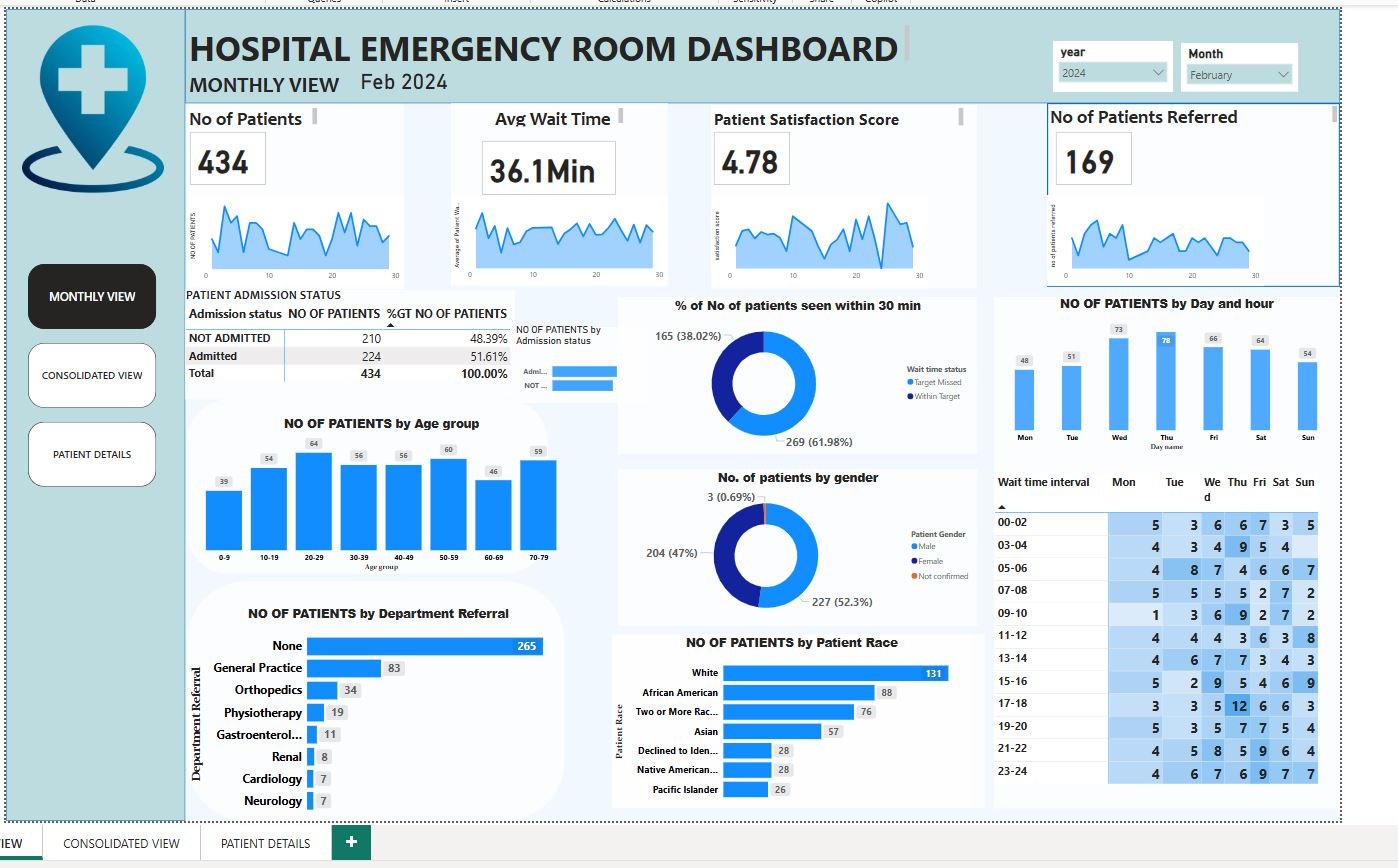

Layout of this report page (visuals, bound fields, positions):
{"tool":"powerbi","page":{"name":"MONTHLY VIEW","canvas":[2300,1400],"ordinal":0},"visuals":[{"type":"shape","box":[0,0,309.1,1400],"z":0},{"type":"shape","box":[312.1,162.1,374.1,320.7],"z":1000},{"type":"shape","box":[309.3,0,1990.7,162.5],"z":2000},{"type":"textbox","box":[310.3,22.4,1251.7,79.3],"z":3000},{"type":"cardVisual","fields":{"Data":["Hospital ER_Data.no of patients"]},"box":[312.1,206.9,141.4,101.7],"z":4000},{"type":"textbox","box":[310.3,165.5,231,43.1],"z":5000},{"type":"slicer","fields":{"Values":["Date Table.Date.Variation.Date Hierarchy.Month"]},"box":[2025.9,58.6,201.7,84.5],"z":6000},{"type":"slicer","fields":{"Values":["Date Table.year"]},"box":[1805.2,55.2,206.9,87.9],"z":7000},{"type":"textbox","box":[310.3,101.7,281,84.5],"z":8000},{"type":"card","fields":{"Values":["Min(Date Table.Month & Year)"]},"box":[558.6,98.3,255.2,46.6],"z":9000},{"type":"shape","box":[1215.5,165.5,458.6,317.2],"z":10000},{"type":"cardVisual","fields":{"Data":["Hospital ER_Data.satisfaction score"]},"box":[1215.5,206.9,141.4,101.7],"z":11000},{"type":"textbox","box":[1215.5,165.5,439.7,43.1],"z":12000},{"type":"shape","box":[766.7,162.4,373.7,316.1],"z":13000},{"type":"textbox","box":[838.3,165.9,230.5,41.9],"z":14000},{"type":"cardVisual","fields":{"Data":["Hospital ER_Data.Avg wait time"]},"box":[815.6,221.8,241,103],"z":15000},{"type":"shape","box":[1794.8,162.1,505.2,317.2],"z":16000},{"type":"cardVisual","fields":{"Data":["Hospital ER_Data.no of patients referred"]},"box":[1805.2,206.9,141.4,101.7],"z":17000},{"type":"textbox","box":[1794.8,162.1,505.2,43.1],"z":18000},{"type":"areaChart","fields":{"Category":["Date Table.Date.Variation.Date Hierarchy.Day"],"Y":["Hospital ER_Data.NO OF PATIENTS"]},"box":[312.1,320.7,374.1,156.9],"z":19000},{"type":"areaChart","fields":{"Category":["Date Table.Date.Variation.Date Hierarchy.Day"],"Y":["Hospital ER_Data.satisfaction score"]},"box":[1215.5,320.7,374.1,156.9],"z":20000},{"type":"areaChart","fields":{"Category":["Date Table.Date.Variation.Date Hierarchy.Day"],"Y":["Avg(Hospital ER_Data.Patient Waittime)"]},"box":[766.7,321.3,373.7,155.4],"z":21000},{"type":"shape","box":[309.1,483.8,569.3,188.6],"z":22000},{"type":"areaChart","fields":{"Category":["Date Table.Date.Variation.Date Hierarchy.Day"],"Y":["Hospital ER_Data.no of patients referred"]},"box":[1794.8,320.7,374.1,156.9],"z":23000},{"type":"shape","box":[878.4,548.4,230.5,131],"z":24000},{"type":"pivotTable","title":"PATIENT ADMISSION STATUS","fields":{"Rows":["Hospital ER_Data.Admission status"],"Values":["Hospital ER_Data.NO OF PATIENTS1","Hospital ER_Data.NO OF PATIENTS"]},"box":[305.6,478.5,569.3,199.1],"z":25000},{"type":"barChart","fields":{"Category":["Hospital ER_Data.Admission status"],"Y":["Hospital ER_Data.NO OF PATIENTS"]},"box":[874.9,543.1,221.8,143.2],"z":26000},{"type":"shape","box":[310.9,672.4,625.2,302.1],"z":27000},{"type":"clusteredColumnChart","fields":{"Y":["Hospital ER_Data.NO OF PATIENTS"],"Category":["Hospital ER_Data.Age group"]},"box":[309.1,700.3,677.6,274.2],"z":28000},{"type":"shape","box":[312.6,986.7,651.4,413.9],"z":29000},{"type":"clusteredBarChart","fields":{"Category":["Hospital ER_Data.Department Referral"],"Y":["Hospital ER_Data.NO OF PATIENTS"]},"box":[312.6,1026.9,660.1,373.7],"z":30000},{"type":"shape","box":[1054.8,496,620,270.7],"z":31000},{"type":"donutChart","title":"% of No of patients seen within 30 min","fields":{"Category":["Hospital ER_Data.Wait time status"],"Y":["Hospital ER_Data.NO OF PATIENTS"]},"box":[1054.8,496,620,270.7],"z":32000},{"type":"shape","box":[1044.3,1077.5,620,300.4],"z":33000},{"type":"shape","box":[1054.8,792.9,620,270.7],"z":34000},{"type":"donutChart","title":"No. of patients by gender","fields":{"Category":["Hospital ER_Data.Patient Gender"],"Y":["Hospital ER_Data.NO OF PATIENTS"]},"box":[1054.8,792.9,620,270.7],"z":35000},{"type":"shape","box":[1046.1,1077.5,640.9,300.4],"z":36000},{"type":"clusteredBarChart","fields":{"Y":["Hospital ER_Data.NO OF PATIENTS"],"Category":["Hospital ER_Data.Patient Race"]},"box":[1044.3,1077.5,620,300.4],"z":37000},{"type":"shape","box":[1702.7,496,597.3,881.9],"z":38000},{"type":"pivotTable","fields":{"Rows":["Hospital ER_Data.Wait time interval"],"Columns":["Date Table.Day name"],"Values":["Hospital ER_Data.NO OF PATIENTS"]},"box":[1699.2,794.6,600.8,564.1],"z":39000},{"type":"columnChart","title":"NO OF PATIENTS by Day and hour","fields":{"Y":["Hospital ER_Data.NO OF PATIENTS"],"Category":["Date Table.Day name"]},"box":[1701,492.5,599,274.2],"z":40000},{"type":"image","box":[0,22.7,300.4,300.4],"z":41000},{"type":"pageNavigator","box":[38.4,440.1,221.8,384.2],"z":42000}]}

Visuals, with their boxes on the page's 2300x1400 design canvas (x1, y1, x2, y2). These are canvas units, not pixel positions in the 1398x868 screenshot, which may show the page scaled, cropped or inside an application window:
shape: {"x1": 0, "y1": 0, "x2": 309, "y2": 1400}
shape: {"x1": 312, "y1": 162, "x2": 686, "y2": 483}
shape: {"x1": 309, "y1": 0, "x2": 2300, "y2": 162}
textbox: {"x1": 310, "y1": 22, "x2": 1562, "y2": 102}
cardVisual - Hospital ER_Data.no of patients: {"x1": 312, "y1": 207, "x2": 454, "y2": 309}
textbox: {"x1": 310, "y1": 166, "x2": 541, "y2": 209}
slicer - Date Table.Date.Variation.Date Hierarchy.Month: {"x1": 2026, "y1": 59, "x2": 2228, "y2": 143}
slicer - Date Table.year: {"x1": 1805, "y1": 55, "x2": 2012, "y2": 143}
textbox: {"x1": 310, "y1": 102, "x2": 591, "y2": 186}
card - Min(Date Table.Month & Year): {"x1": 559, "y1": 98, "x2": 814, "y2": 145}
shape: {"x1": 1216, "y1": 166, "x2": 1674, "y2": 483}
cardVisual - Hospital ER_Data.satisfaction score: {"x1": 1216, "y1": 207, "x2": 1357, "y2": 309}
textbox: {"x1": 1216, "y1": 166, "x2": 1655, "y2": 209}
shape: {"x1": 767, "y1": 162, "x2": 1140, "y2": 478}
textbox: {"x1": 838, "y1": 166, "x2": 1069, "y2": 208}
cardVisual - Hospital ER_Data.Avg wait time: {"x1": 816, "y1": 222, "x2": 1057, "y2": 325}
shape: {"x1": 1795, "y1": 162, "x2": 2300, "y2": 479}
cardVisual - Hospital ER_Data.no of patients referred: {"x1": 1805, "y1": 207, "x2": 1947, "y2": 309}
textbox: {"x1": 1795, "y1": 162, "x2": 2300, "y2": 205}
areaChart - Date Table.Date.Variation.Date Hierarchy.Day x Hospital ER_Data.NO OF PATIENTS: {"x1": 312, "y1": 321, "x2": 686, "y2": 478}
areaChart - Date Table.Date.Variation.Date Hierarchy.Day x Hospital ER_Data.satisfaction score: {"x1": 1216, "y1": 321, "x2": 1590, "y2": 478}
areaChart - Date Table.Date.Variation.Date Hierarchy.Day x Avg(Hospital ER_Data.Patient Waittime): {"x1": 767, "y1": 321, "x2": 1140, "y2": 477}
shape: {"x1": 309, "y1": 484, "x2": 878, "y2": 672}
areaChart - Date Table.Date.Variation.Date Hierarchy.Day x Hospital ER_Data.no of patients referred: {"x1": 1795, "y1": 321, "x2": 2169, "y2": 478}
shape: {"x1": 878, "y1": 548, "x2": 1109, "y2": 679}
"PATIENT ADMISSION STATUS" pivotTable: {"x1": 306, "y1": 478, "x2": 875, "y2": 678}
barChart - Hospital ER_Data.Admission status x Hospital ER_Data.NO OF PATIENTS: {"x1": 875, "y1": 543, "x2": 1097, "y2": 686}
shape: {"x1": 311, "y1": 672, "x2": 936, "y2": 974}
clusteredColumnChart - Hospital ER_Data.NO OF PATIENTS x Hospital ER_Data.Age group: {"x1": 309, "y1": 700, "x2": 987, "y2": 974}
shape: {"x1": 313, "y1": 987, "x2": 964, "y2": 1401}
clusteredBarChart - Hospital ER_Data.Department Referral x Hospital ER_Data.NO OF PATIENTS: {"x1": 313, "y1": 1027, "x2": 973, "y2": 1401}
shape: {"x1": 1055, "y1": 496, "x2": 1675, "y2": 767}
"% of No of patients seen within 30 min" donutChart: {"x1": 1055, "y1": 496, "x2": 1675, "y2": 767}
shape: {"x1": 1044, "y1": 1078, "x2": 1664, "y2": 1378}
shape: {"x1": 1055, "y1": 793, "x2": 1675, "y2": 1064}
"No. of patients by gender" donutChart: {"x1": 1055, "y1": 793, "x2": 1675, "y2": 1064}
shape: {"x1": 1046, "y1": 1078, "x2": 1687, "y2": 1378}
clusteredBarChart - Hospital ER_Data.NO OF PATIENTS x Hospital ER_Data.Patient Race: {"x1": 1044, "y1": 1078, "x2": 1664, "y2": 1378}
shape: {"x1": 1703, "y1": 496, "x2": 2300, "y2": 1378}
pivotTable - Hospital ER_Data.Wait time interval x Date Table.Day name: {"x1": 1699, "y1": 795, "x2": 2300, "y2": 1359}
"NO OF PATIENTS by Day and hour" columnChart: {"x1": 1701, "y1": 492, "x2": 2300, "y2": 767}
image: {"x1": 0, "y1": 23, "x2": 300, "y2": 323}
pageNavigator: {"x1": 38, "y1": 440, "x2": 260, "y2": 824}
